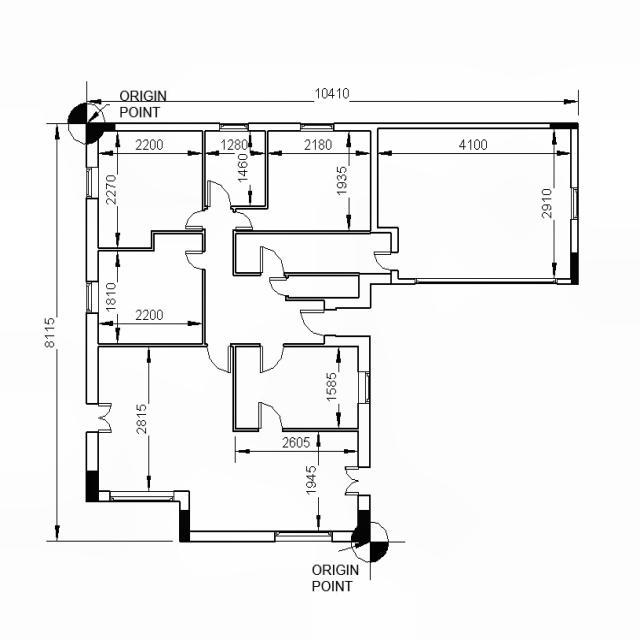Column: (85, 470, 98, 502), (358, 510, 370, 542), (180, 510, 190, 542), (570, 252, 579, 285), (86, 122, 115, 132), (550, 122, 579, 130)
Door: (300, 310, 336, 336), (260, 246, 285, 276), (260, 343, 284, 373), (258, 402, 282, 432), (208, 180, 232, 209), (207, 343, 231, 372), (374, 252, 398, 271), (186, 210, 206, 230), (186, 251, 206, 269), (269, 278, 289, 296), (234, 212, 252, 230)
Double-Door: (85, 403, 112, 432), (346, 466, 370, 496)
Window: (414, 278, 558, 285), (110, 491, 174, 502), (274, 530, 332, 542), (85, 167, 98, 199), (85, 281, 98, 313), (358, 372, 370, 404), (300, 122, 334, 132), (219, 122, 249, 132), (570, 187, 579, 219)
